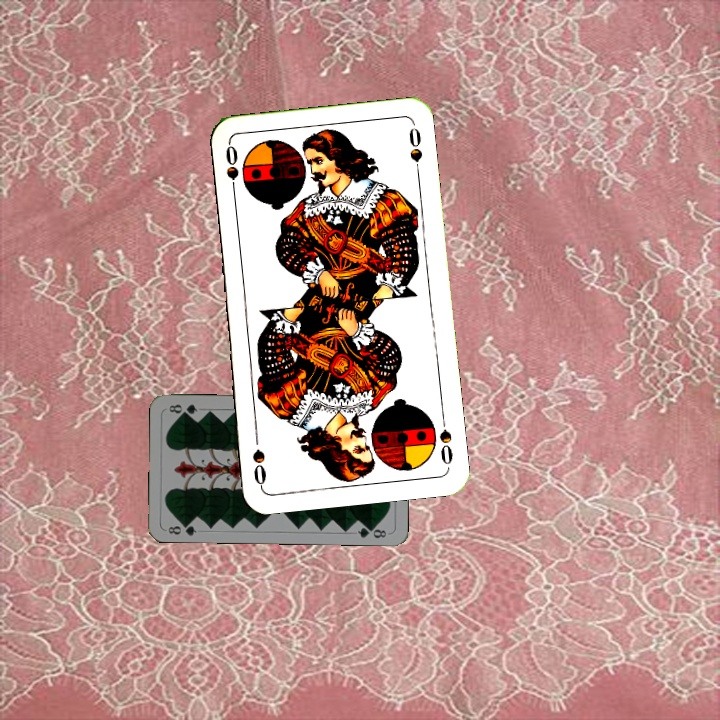G8: (164, 518, 199, 538)
SO: (221, 141, 242, 200), (435, 410, 456, 467)
